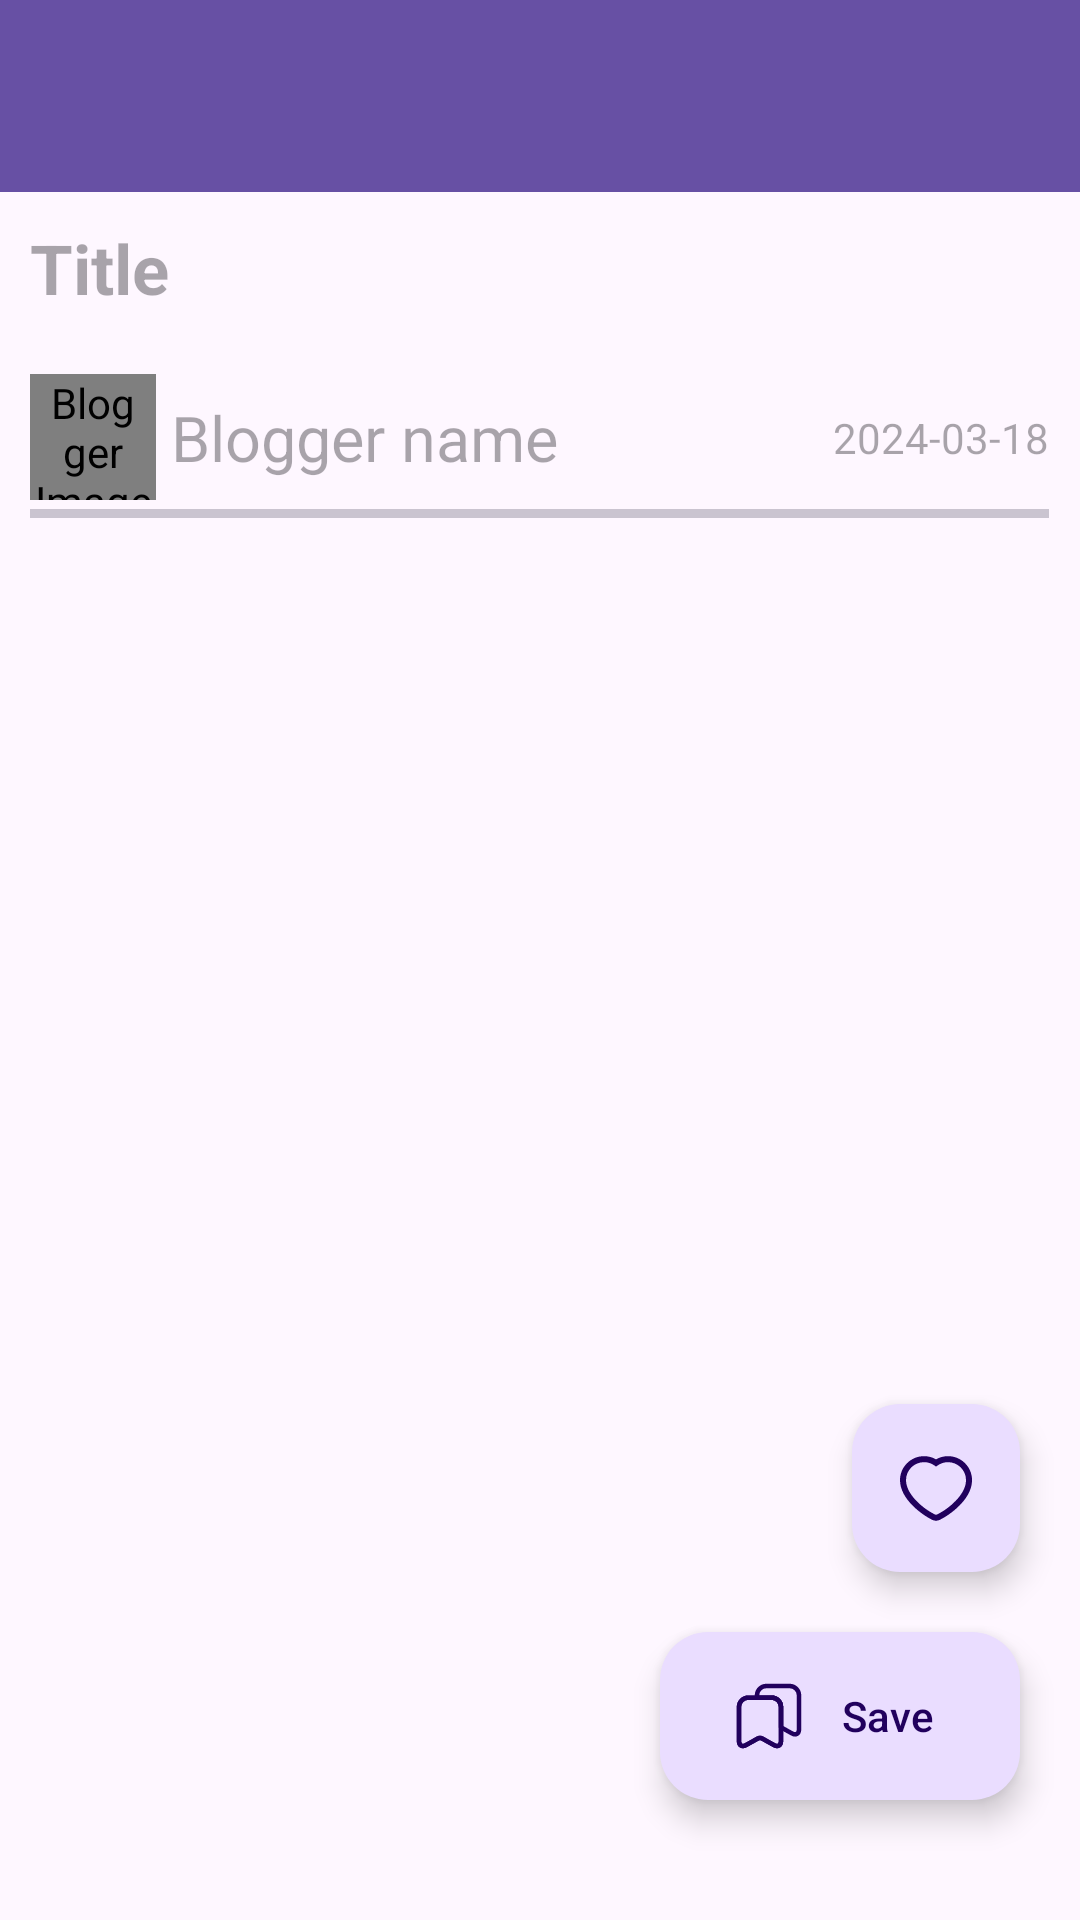

Icons on this 1080px x 1920px Android screen, each with the point to tap as point (x, y):
like: point (936, 1488)
